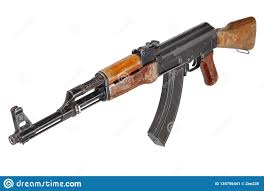gun: (7, 15, 258, 148)
